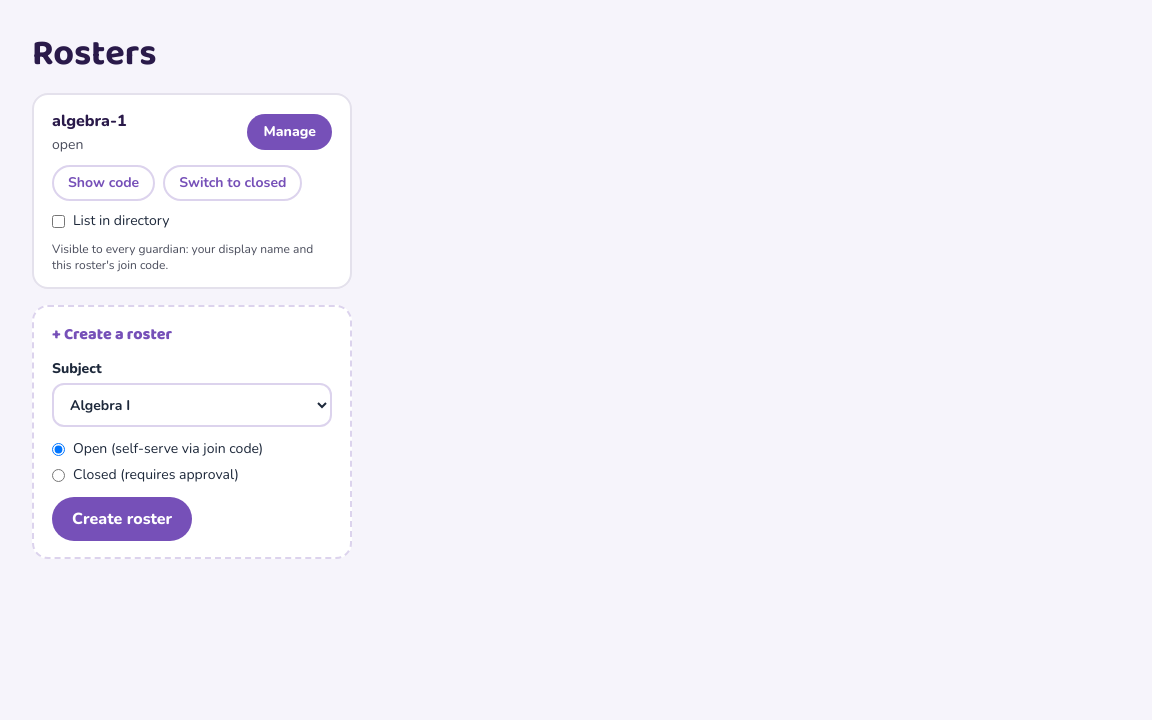
RostersFlow per-assignment results view › shows a mixed-status per-student results table on 'View results'
Click the button "Manage".
click(290, 132)  # box 248,114 -> 332,150
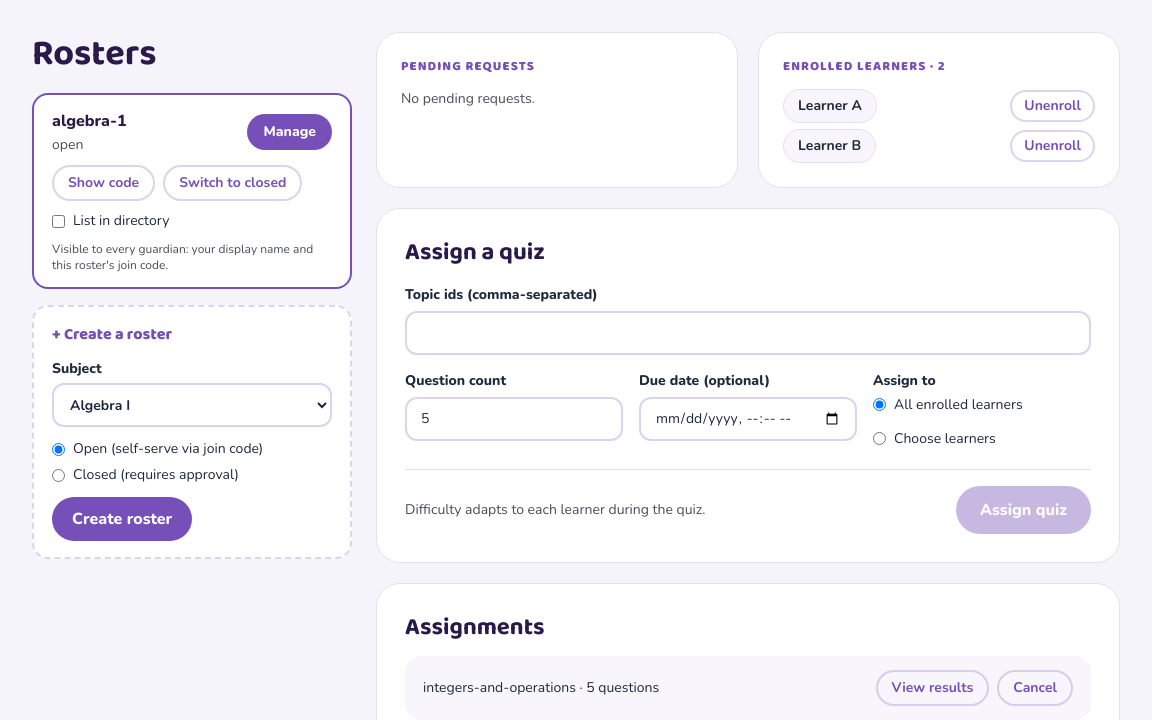
Click the button "View results".
click(932, 688)  # box 876,670 -> 989,706
(page scrolled)
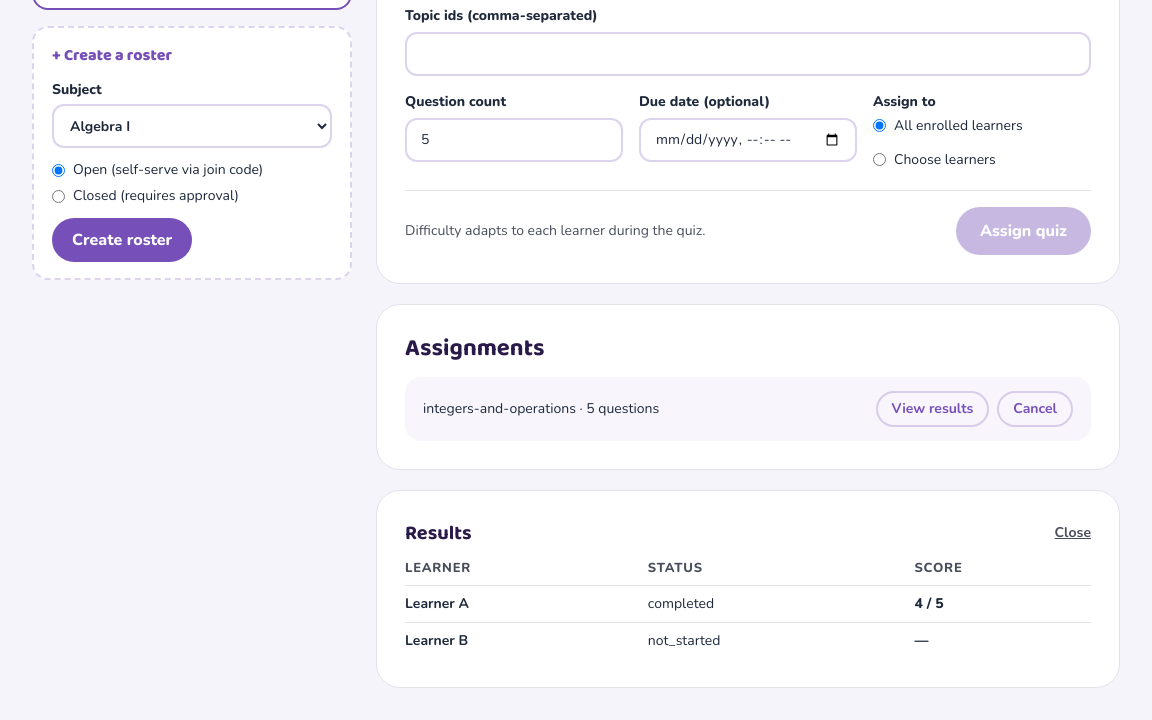
Expected: the element with test id "assignment-results" is shown, 376,490 -> 1120,688
